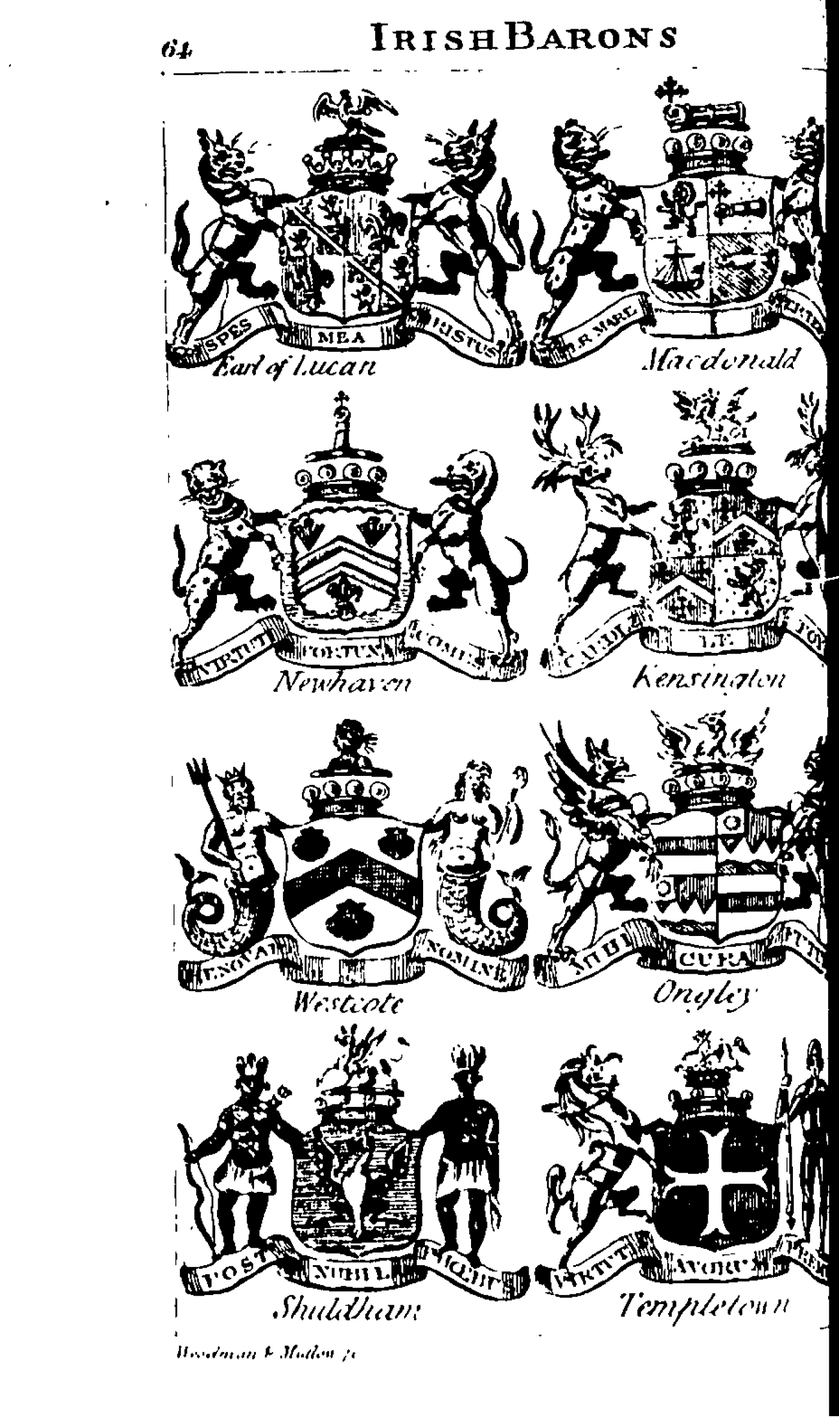coat_of_arms: (168, 74, 524, 397), (169, 1015, 537, 1324), (163, 397, 534, 703), (165, 708, 531, 1015), (524, 1007, 834, 1332), (525, 383, 839, 703), (527, 706, 839, 1011), (528, 73, 828, 383)
